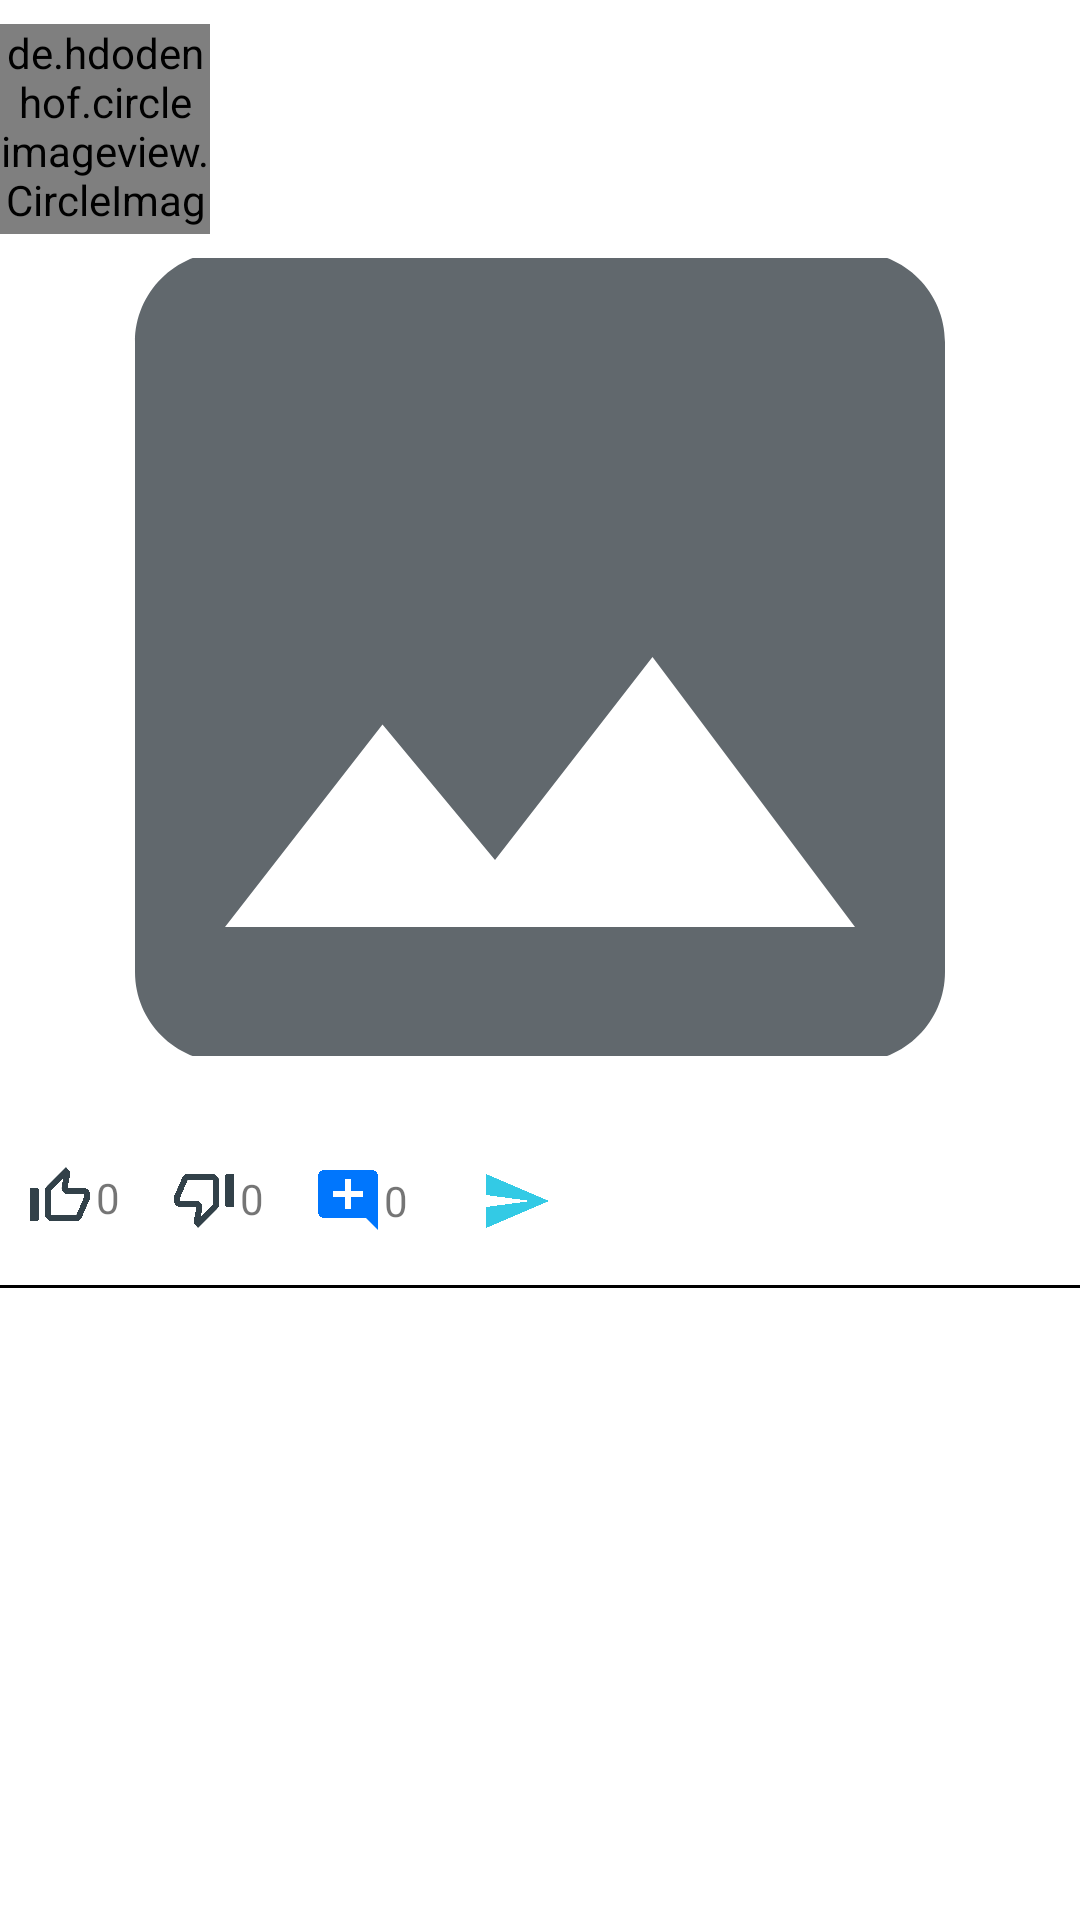

Icon bounding boxes for this 1080*1920 phone screenshot, format Rect(x1, y1, x2, y2):
comment: Rect(318, 1170, 378, 1230)
dislike: Rect(174, 1174, 234, 1228)
like: Rect(30, 1167, 90, 1221)
send: Rect(486, 1174, 548, 1228)
